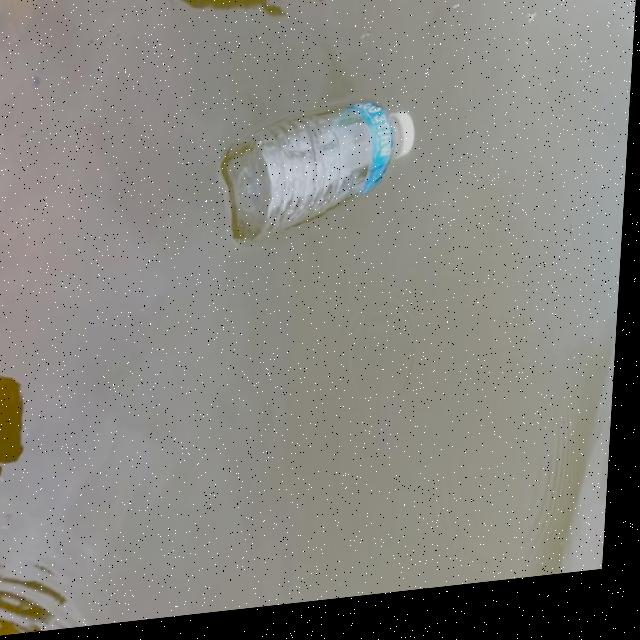waterbottle: (231, 85, 429, 266)
